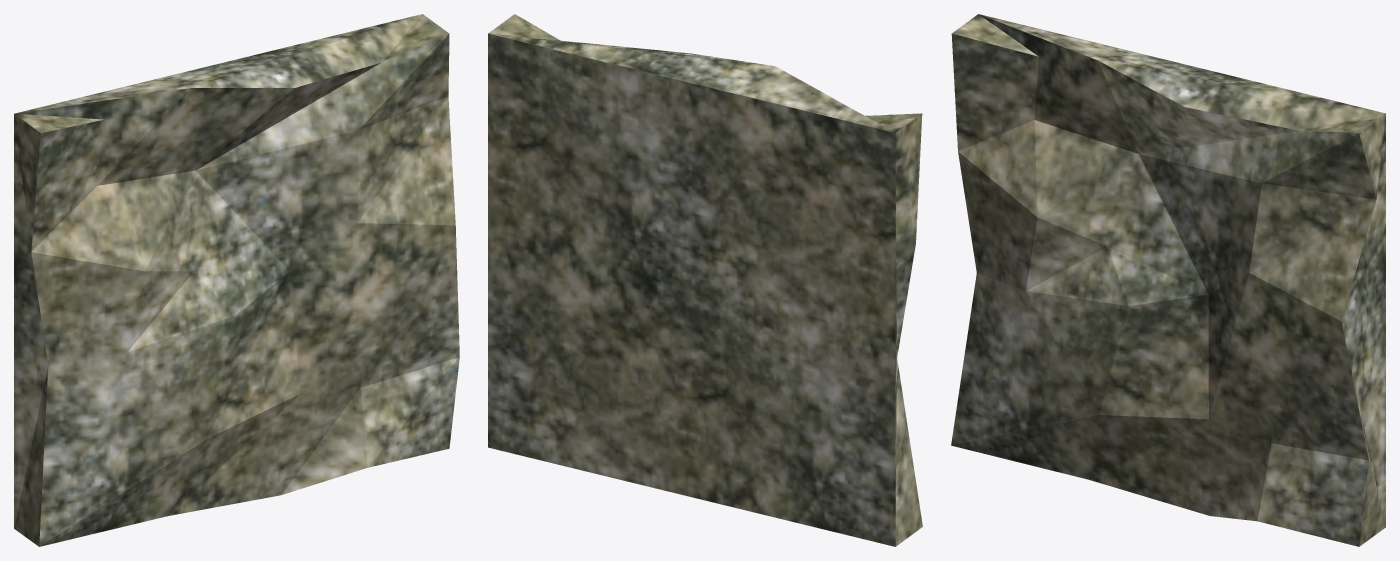
Rendered from caveWall.obj.
The picture shows the model from 3 angles, left to right: view 1: azimuth 30°, elevation 25°; view 2: azimuth 150°, elevation 25°; view 3: azimuth 330°, elevation 25°; orthographic projection.
Visible parts, largest first — view 1: caveWall; view 2: caveWall; view 3: caveWall.
Boxes of the visible parts, box(x1,y1,x2,y2) form: caveWall: box(14, 14, 459, 546); caveWall: box(488, 14, 922, 546); caveWall: box(951, 14, 1385, 546).
Bounding box in the file's own units: 1 × 1 × 0.16.
1 material, 1 textured.
